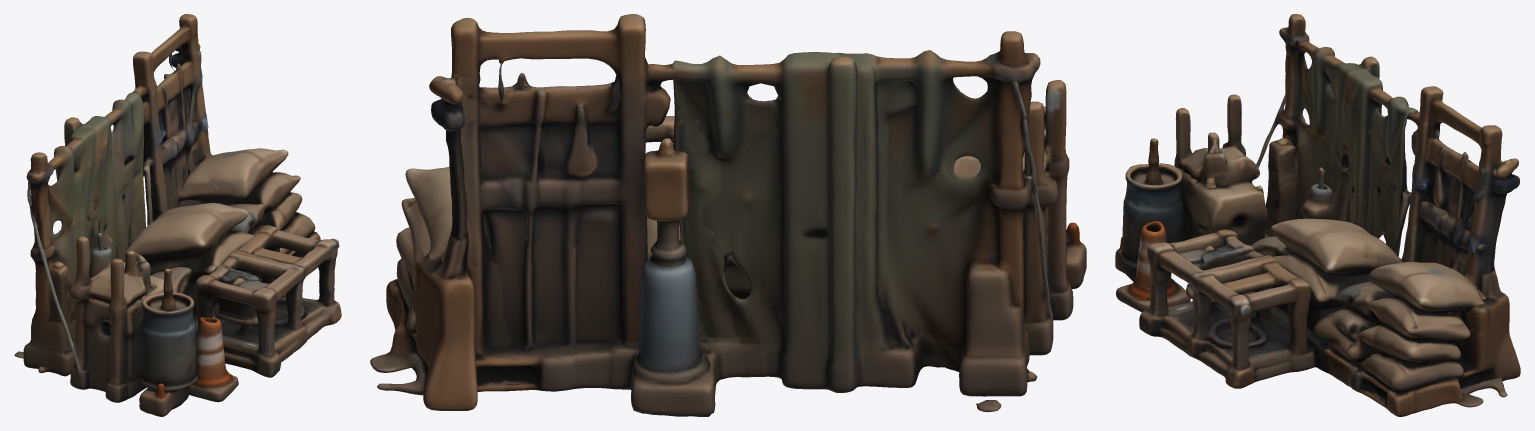
The model's file is SM_Environment_MedievalSiegeCamp_01.fbx.
3 renders of one model, left to right at view 1: azimuth 30°, elevation 25°; view 2: azimuth 150°, elevation 25°; view 3: azimuth 270°, elevation 25°, orthographic. The views are drawn at different scales.
Visible parts, largest first — view 1: SM_Environment_MedievalSiegeCamp_01; view 2: SM_Environment_MedievalSiegeCamp_01; view 3: SM_Environment_MedievalSiegeCamp_01.
Part boxes in pixels (x1=…): SM_Environment_MedievalSiegeCamp_01: x1=14, y1=14, x2=341, y2=416; SM_Environment_MedievalSiegeCamp_01: x1=370, y1=14, x2=1086, y2=416; SM_Environment_MedievalSiegeCamp_01: x1=1115, y1=14, x2=1520, y2=416.
Bounding box in the file's own units: 0.995 × 0.6422 × 0.9462.
Materials: 1 (1 with a texture image).
